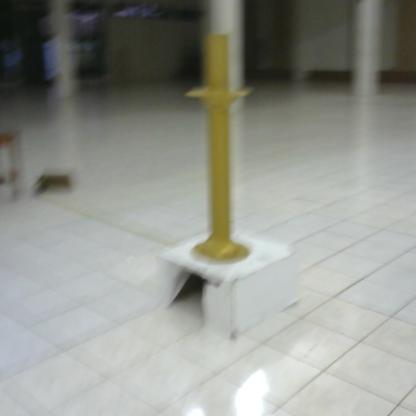pole: (177, 27, 262, 275)
